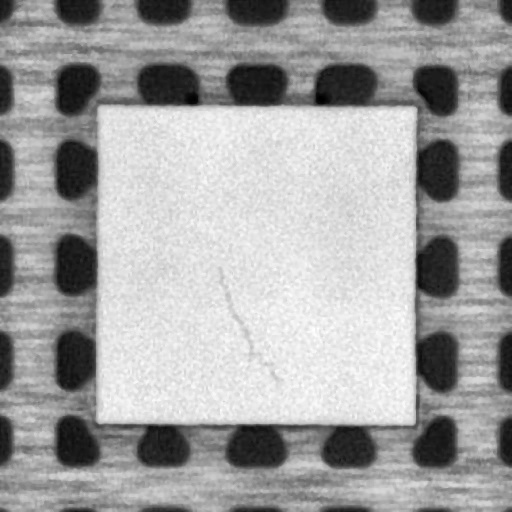DIE_CRACK: (212, 266, 280, 382)
